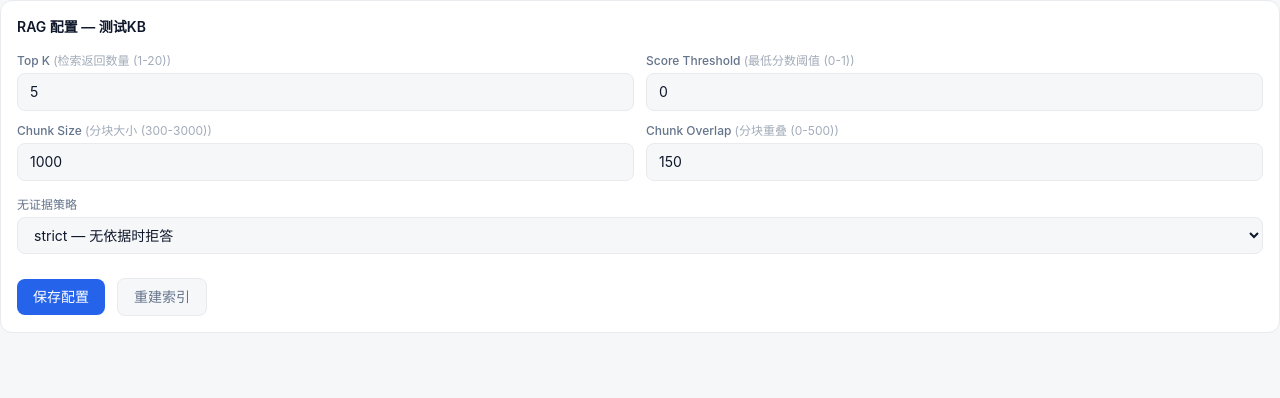
Test: RAGConfigPanel › 重建索引失败显示错误
Expected: the number field showing "5" below "Top K" is shown, x1=17 y1=73 x2=634 y2=111
Step 1. Click the button "重建索引" → [162, 297], box x1=117 y1=278 x2=207 y2=316
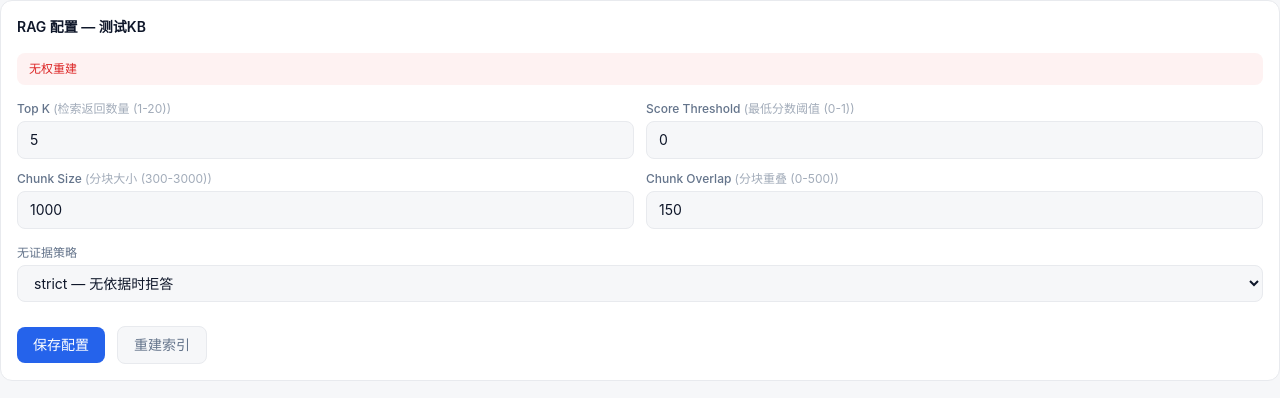
Expected: the text "无权重建" is shown, x1=17 y1=53 x2=1263 y2=85
